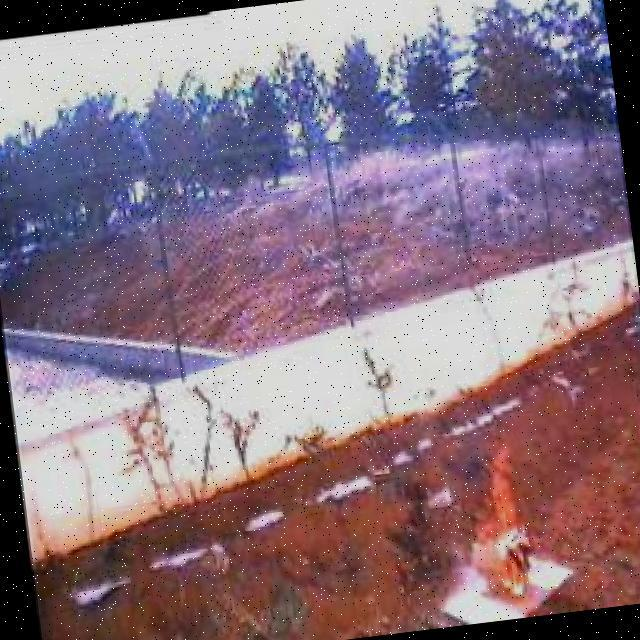Fire: (455, 437, 543, 609)
